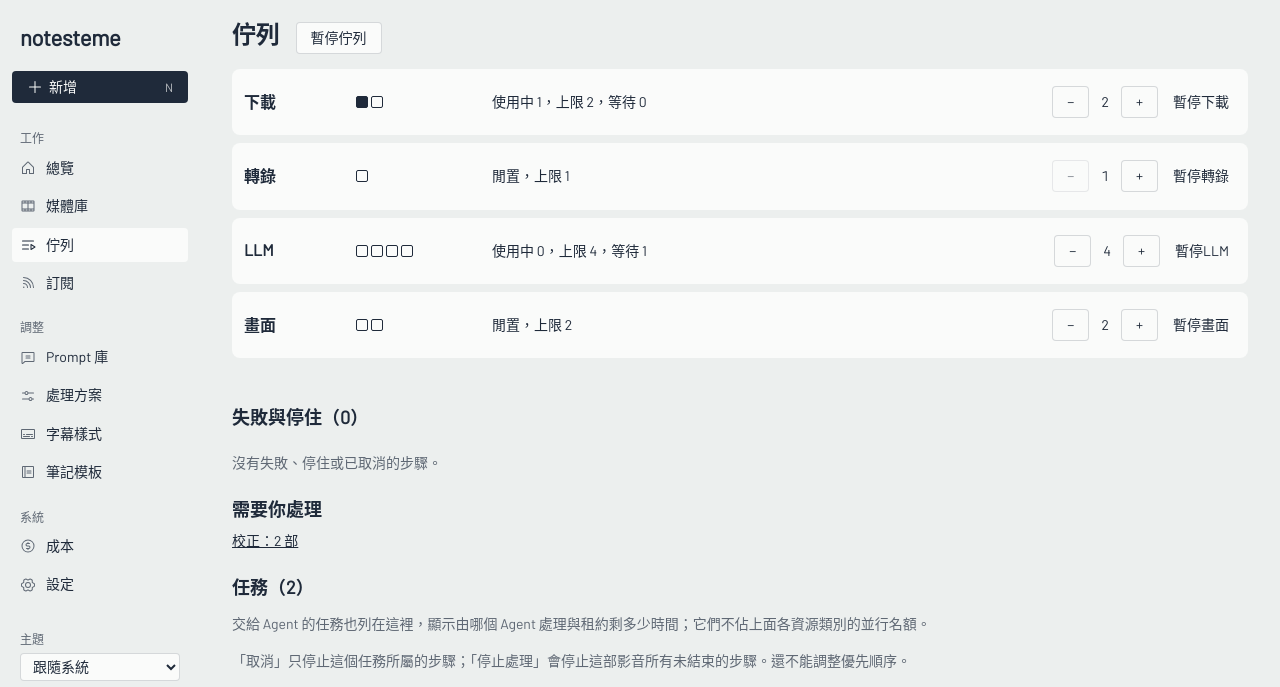
佇列：通道 › 暫停整個佇列後顯示橫幅與「繼續處理」；也可以只暫停一個類別
Expected: the heading "佇列" is shown, [232,20,280,49]
Expected: the heading "下載" is shown, [244,92,276,111]
What coordinates should you click on to do the following:
click the button "暫停LLM"
I would click on:
 (1202, 251)
Its box is [1168,235,1236,267].
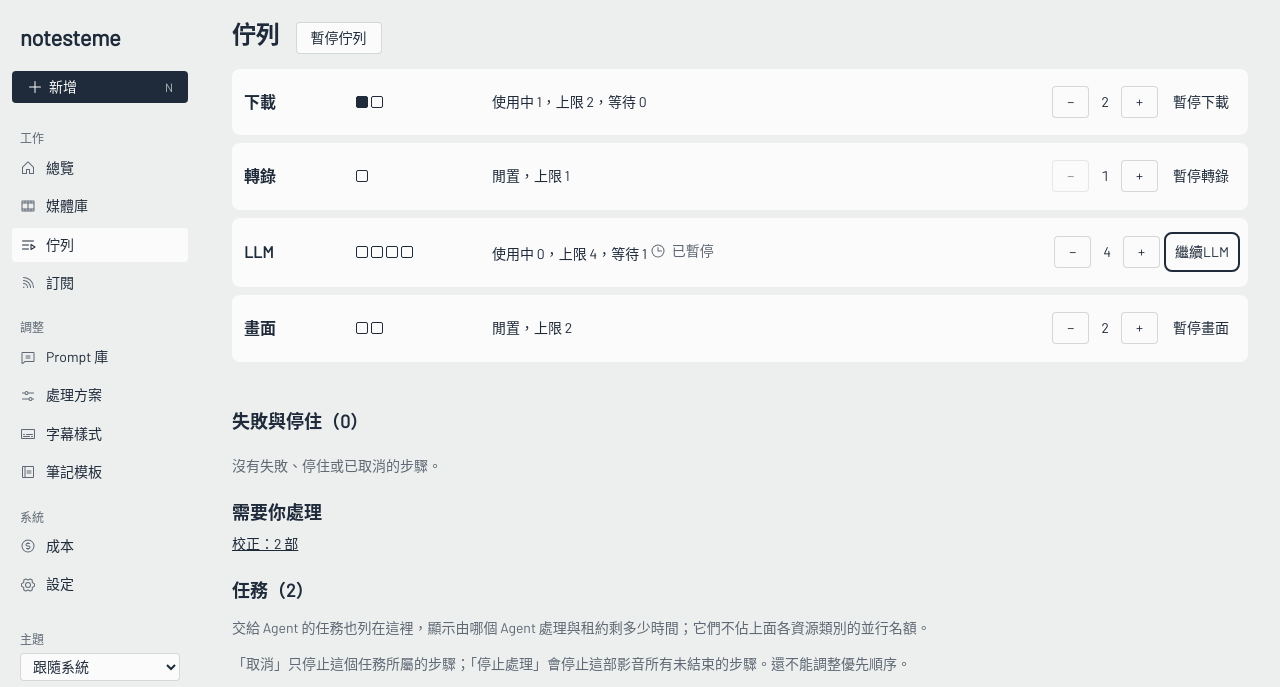
Result: the button "繼續LLM" is shown at [1168,236,1236,268]
What coordinates should you click on to do the following:
click the button "暫停佇列"
I would click on:
 (338, 38)
Its box is [296,22,382,54].
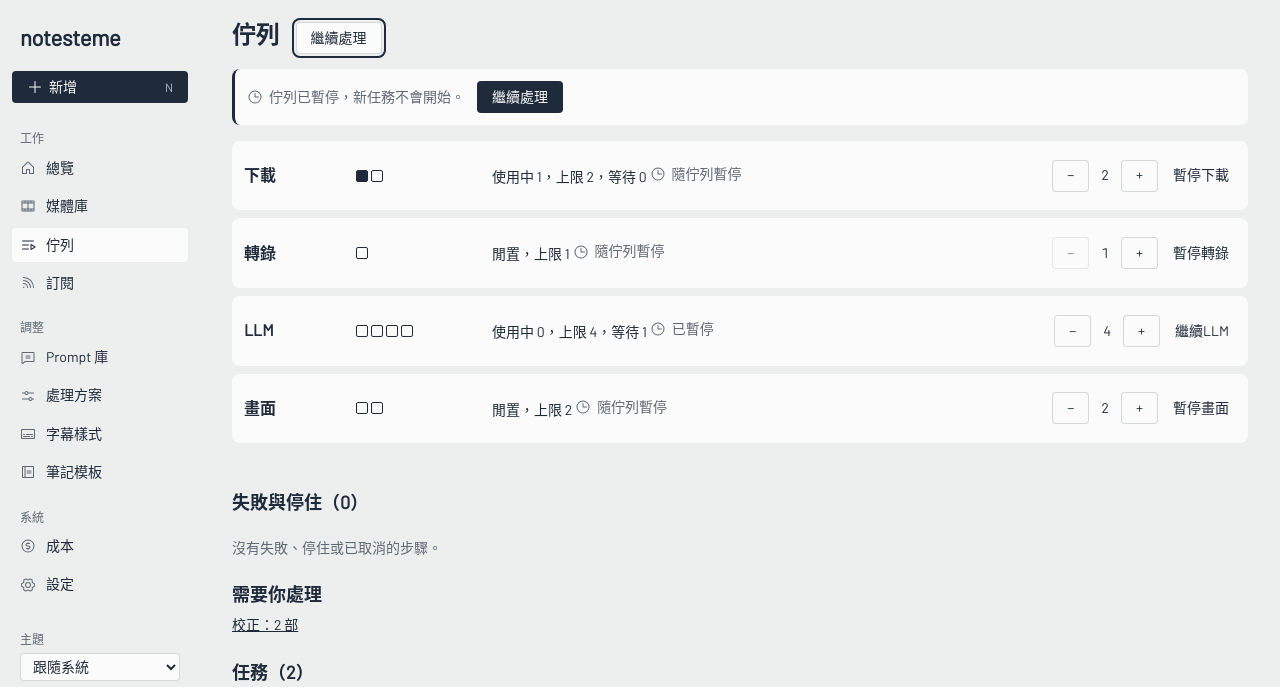
Result: the text "佇列已暫停，新任務不會開始。" is shown at [269,86,465,108]
What coordinates should you click on to do the following:
click the button "繼續處理" next to "佇列已暫停，新任務不會開始。"
I would click on:
 (520, 97)
Its box is [477,81,563,113].
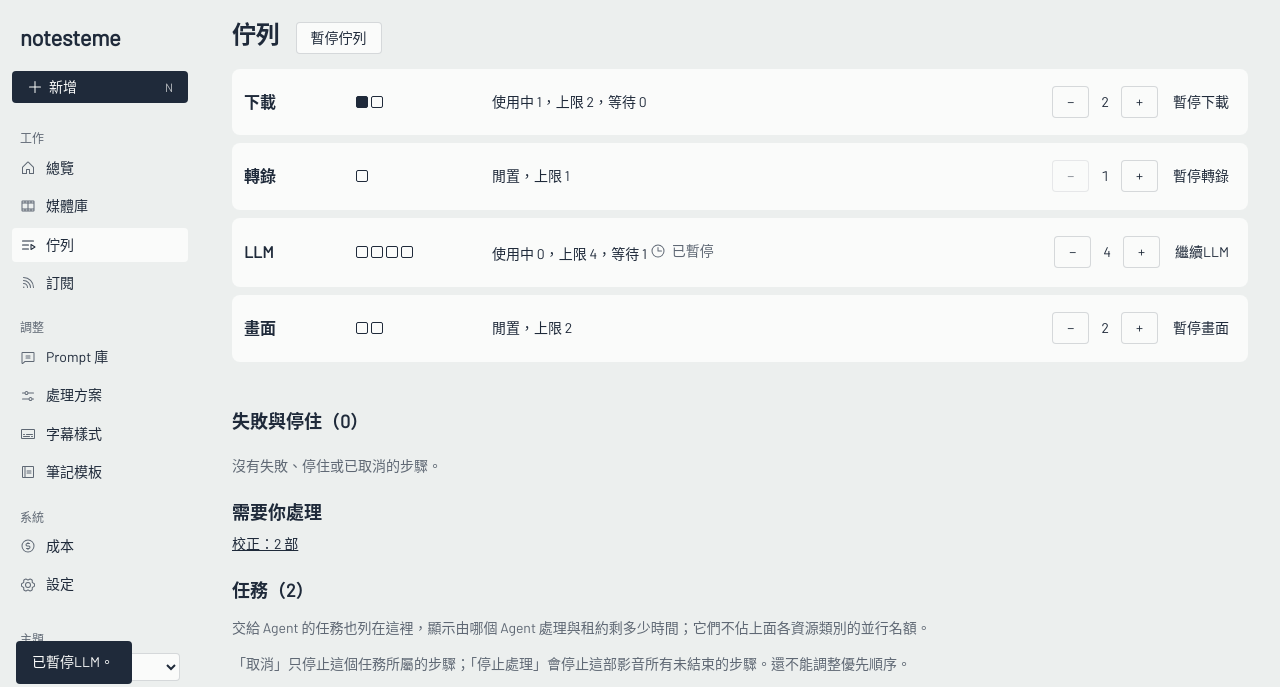
Result: the text "佇列已暫停，新任務不會開始。" is gone
